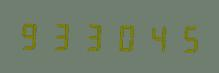five: (168, 21, 197, 54)
four: (138, 20, 167, 54)
nine: (17, 18, 46, 51)
three: (47, 18, 76, 52), (78, 19, 107, 52)
zero: (108, 19, 137, 53)
